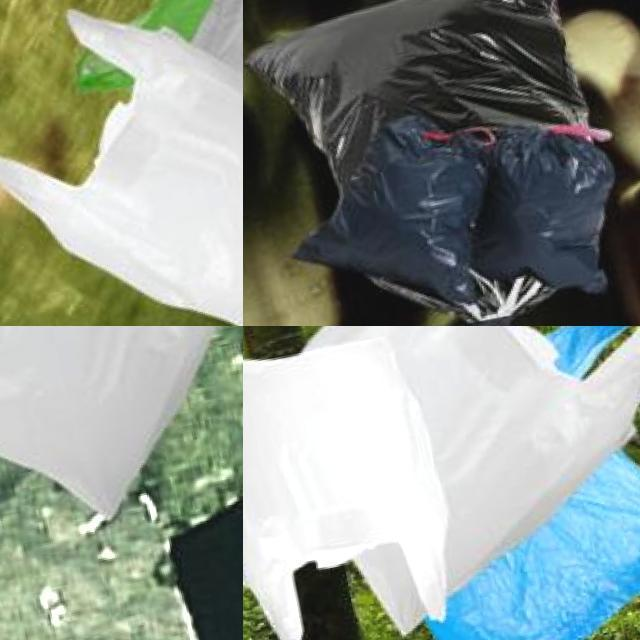waste: (243, 0, 640, 326), (285, 326, 640, 640), (380, 326, 640, 640), (0, 0, 243, 326), (243, 326, 458, 640), (44, 0, 243, 289), (0, 326, 243, 540), (280, 107, 501, 326), (458, 114, 634, 308)
